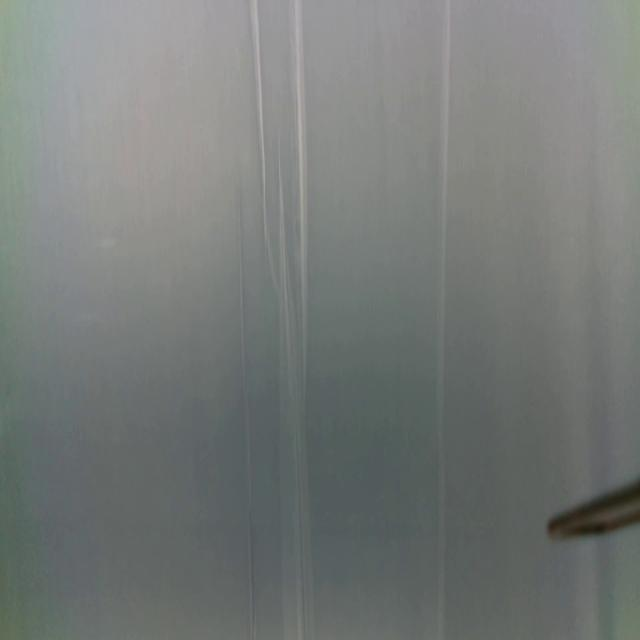crease: (275, 128, 302, 640), (434, 0, 454, 640), (234, 182, 255, 635), (292, 0, 308, 318), (252, 0, 268, 271)
